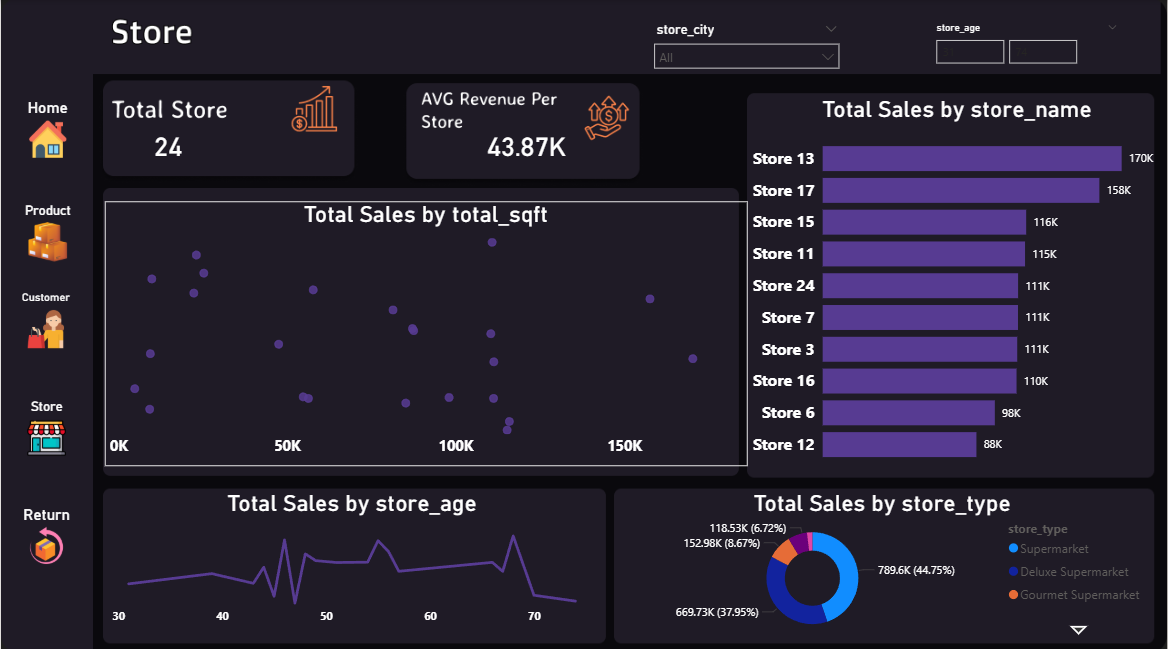

The dashboard page shown, as its layout file describes it:
{"tool":"powerbi","page":{"name":"store performance","canvas":[1280,720],"ordinal":4},"visuals":[{"type":"card","fields":{"Values":["Dax.Total Store"]},"box":[89.2,118,189.4,83.7],"z":0},{"type":"card","fields":{"Values":["Dax.avg profit per store"]},"box":[411.7,118,188,82.3],"z":1000},{"type":"scatterChart","fields":{"X":["Dax.Total Sales"],"Y":["dim_store.total_sqft"]},"box":[113.9,212.7,557.1,299.1],"z":2000},{"type":"donutChart","fields":{"Category":["dim_store.store_type"],"Y":["Dax.Total Sales"]},"box":[671,537.9,592.8,166],"z":3000},{"type":"lineChart","fields":{"Category":["dim_store.store_age"],"Y":["Dax.Total Sales"]},"box":[113.9,537.9,543.4,156.4],"z":4000},{"type":"clusteredBarChart","fields":{"Category":["dim_store.store_name"],"Y":["Dax.Total Sales"]},"box":[706.7,93.3,461.1,415.8],"z":5000},{"type":"slicer","fields":{"Values":["dim_store.store_city"]},"box":[713.6,19.2,223.7,74.1],"z":6000},{"type":"slicer","fields":{"Values":["dim_store.store_age"]},"box":[1014.1,19.2,223.7,74.1],"z":7000},{"type":"image","title":"Home","box":[1.4,108.4,100.2,64.5],"z":8000},{"type":"image","title":"Product","box":[1.4,222.3,100.2,64.5],"z":9000},{"type":"image","title":"Customer","box":[0,319.7,98.8,64.5],"z":10000},{"type":"image","title":"Store","box":[0,437.7,100.2,64.5],"z":11000},{"type":"image","title":"Return","box":[0,554.4,100.2,64.5],"z":12000}]}

Visuals, with their boxes in screenshot pixels (x1, y1, x2, y2), scaled from the page's 1280x720 canvas onto the 1168x649 screenshot:
card - Dax.Total Store: {"left": 81, "top": 106, "right": 254, "bottom": 182}
card - Dax.avg profit per store: {"left": 376, "top": 106, "right": 547, "bottom": 181}
scatterChart - Dax.Total Sales x dim_store.total_sqft: {"left": 104, "top": 192, "right": 612, "bottom": 461}
donutChart - dim_store.store_type x Dax.Total Sales: {"left": 612, "top": 485, "right": 1153, "bottom": 634}
lineChart - dim_store.store_age x Dax.Total Sales: {"left": 104, "top": 485, "right": 600, "bottom": 626}
clusteredBarChart - dim_store.store_name x Dax.Total Sales: {"left": 645, "top": 84, "right": 1066, "bottom": 459}
slicer - dim_store.store_city: {"left": 651, "top": 17, "right": 855, "bottom": 84}
slicer - dim_store.store_age: {"left": 925, "top": 17, "right": 1129, "bottom": 84}
"Home" image: {"left": 1, "top": 98, "right": 93, "bottom": 156}
"Product" image: {"left": 1, "top": 200, "right": 93, "bottom": 259}
"Customer" image: {"left": 0, "top": 288, "right": 90, "bottom": 346}
"Store" image: {"left": 0, "top": 395, "right": 91, "bottom": 453}
"Return" image: {"left": 0, "top": 500, "right": 91, "bottom": 558}
